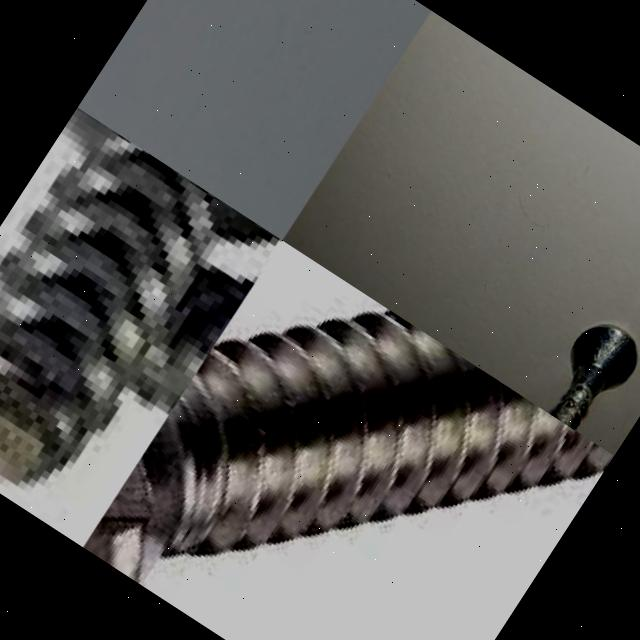Screw: (82, 305, 613, 585), (0, 107, 282, 488), (552, 326, 636, 430)
